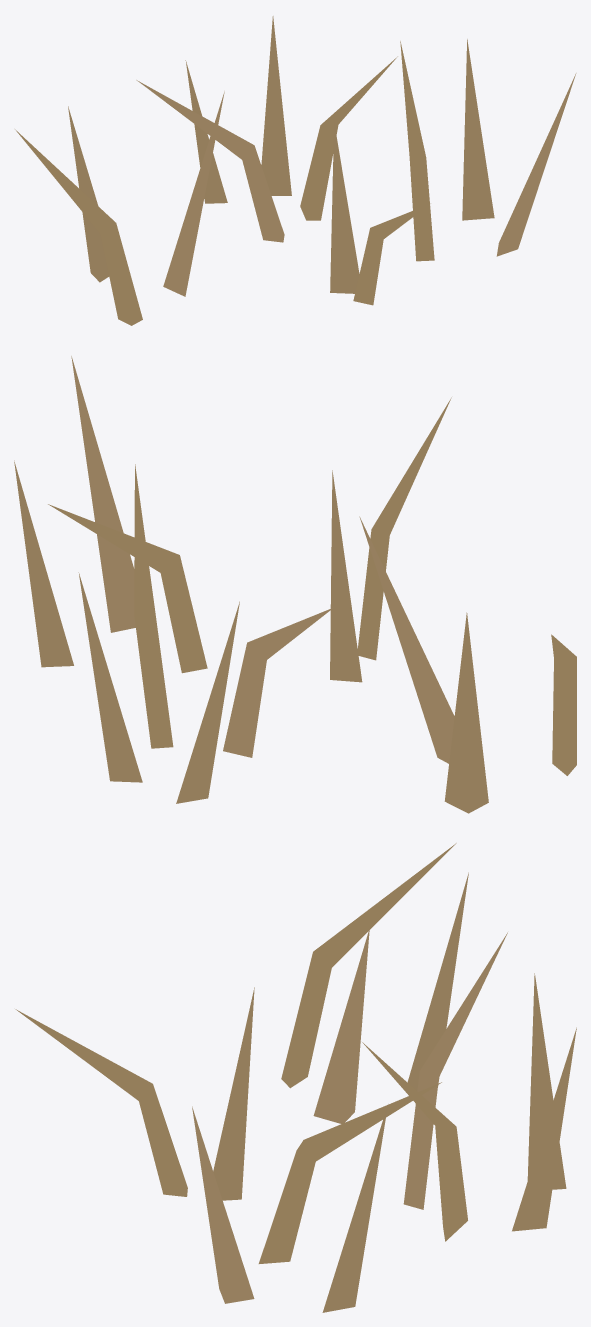
Rendered from Grass3D_b_06.fbx.
3 renders of one model, top to bottom at view 1: azimuth 30°, elevation 25°; view 2: azimuth 150°, elevation 25°; view 3: azimuth 270°, elevation 25°, orthographic. The views are drawn at different scales.
Visible parts, largest first — view 1: Grass3D_b_06; view 2: Grass3D_b_06; view 3: Grass3D_b_06.
Part boxes in pixels (x1=…): Grass3D_b_06: x1=15, y1=16, x2=576, y2=325; Grass3D_b_06: x1=14, y1=356, x2=576, y2=813; Grass3D_b_06: x1=15, y1=843, x2=576, y2=1312.
Bounding box in the file's own units: 1.23 × 0.4656 × 1.01.
